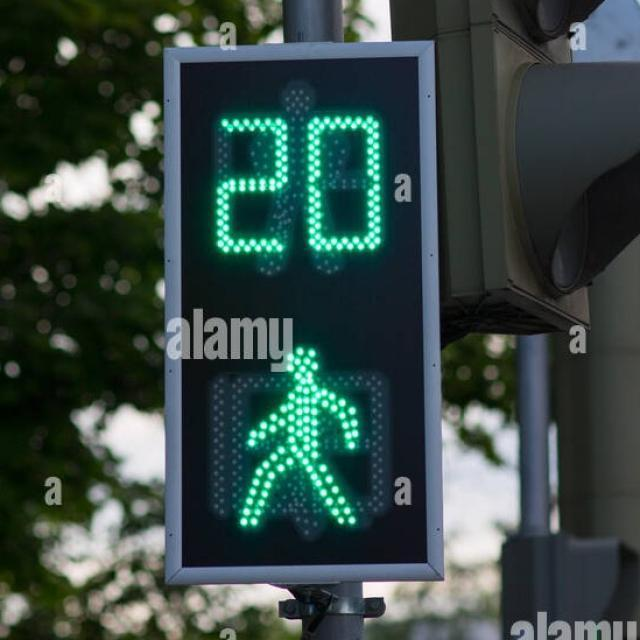geen-crossing: (250, 348, 360, 538)
